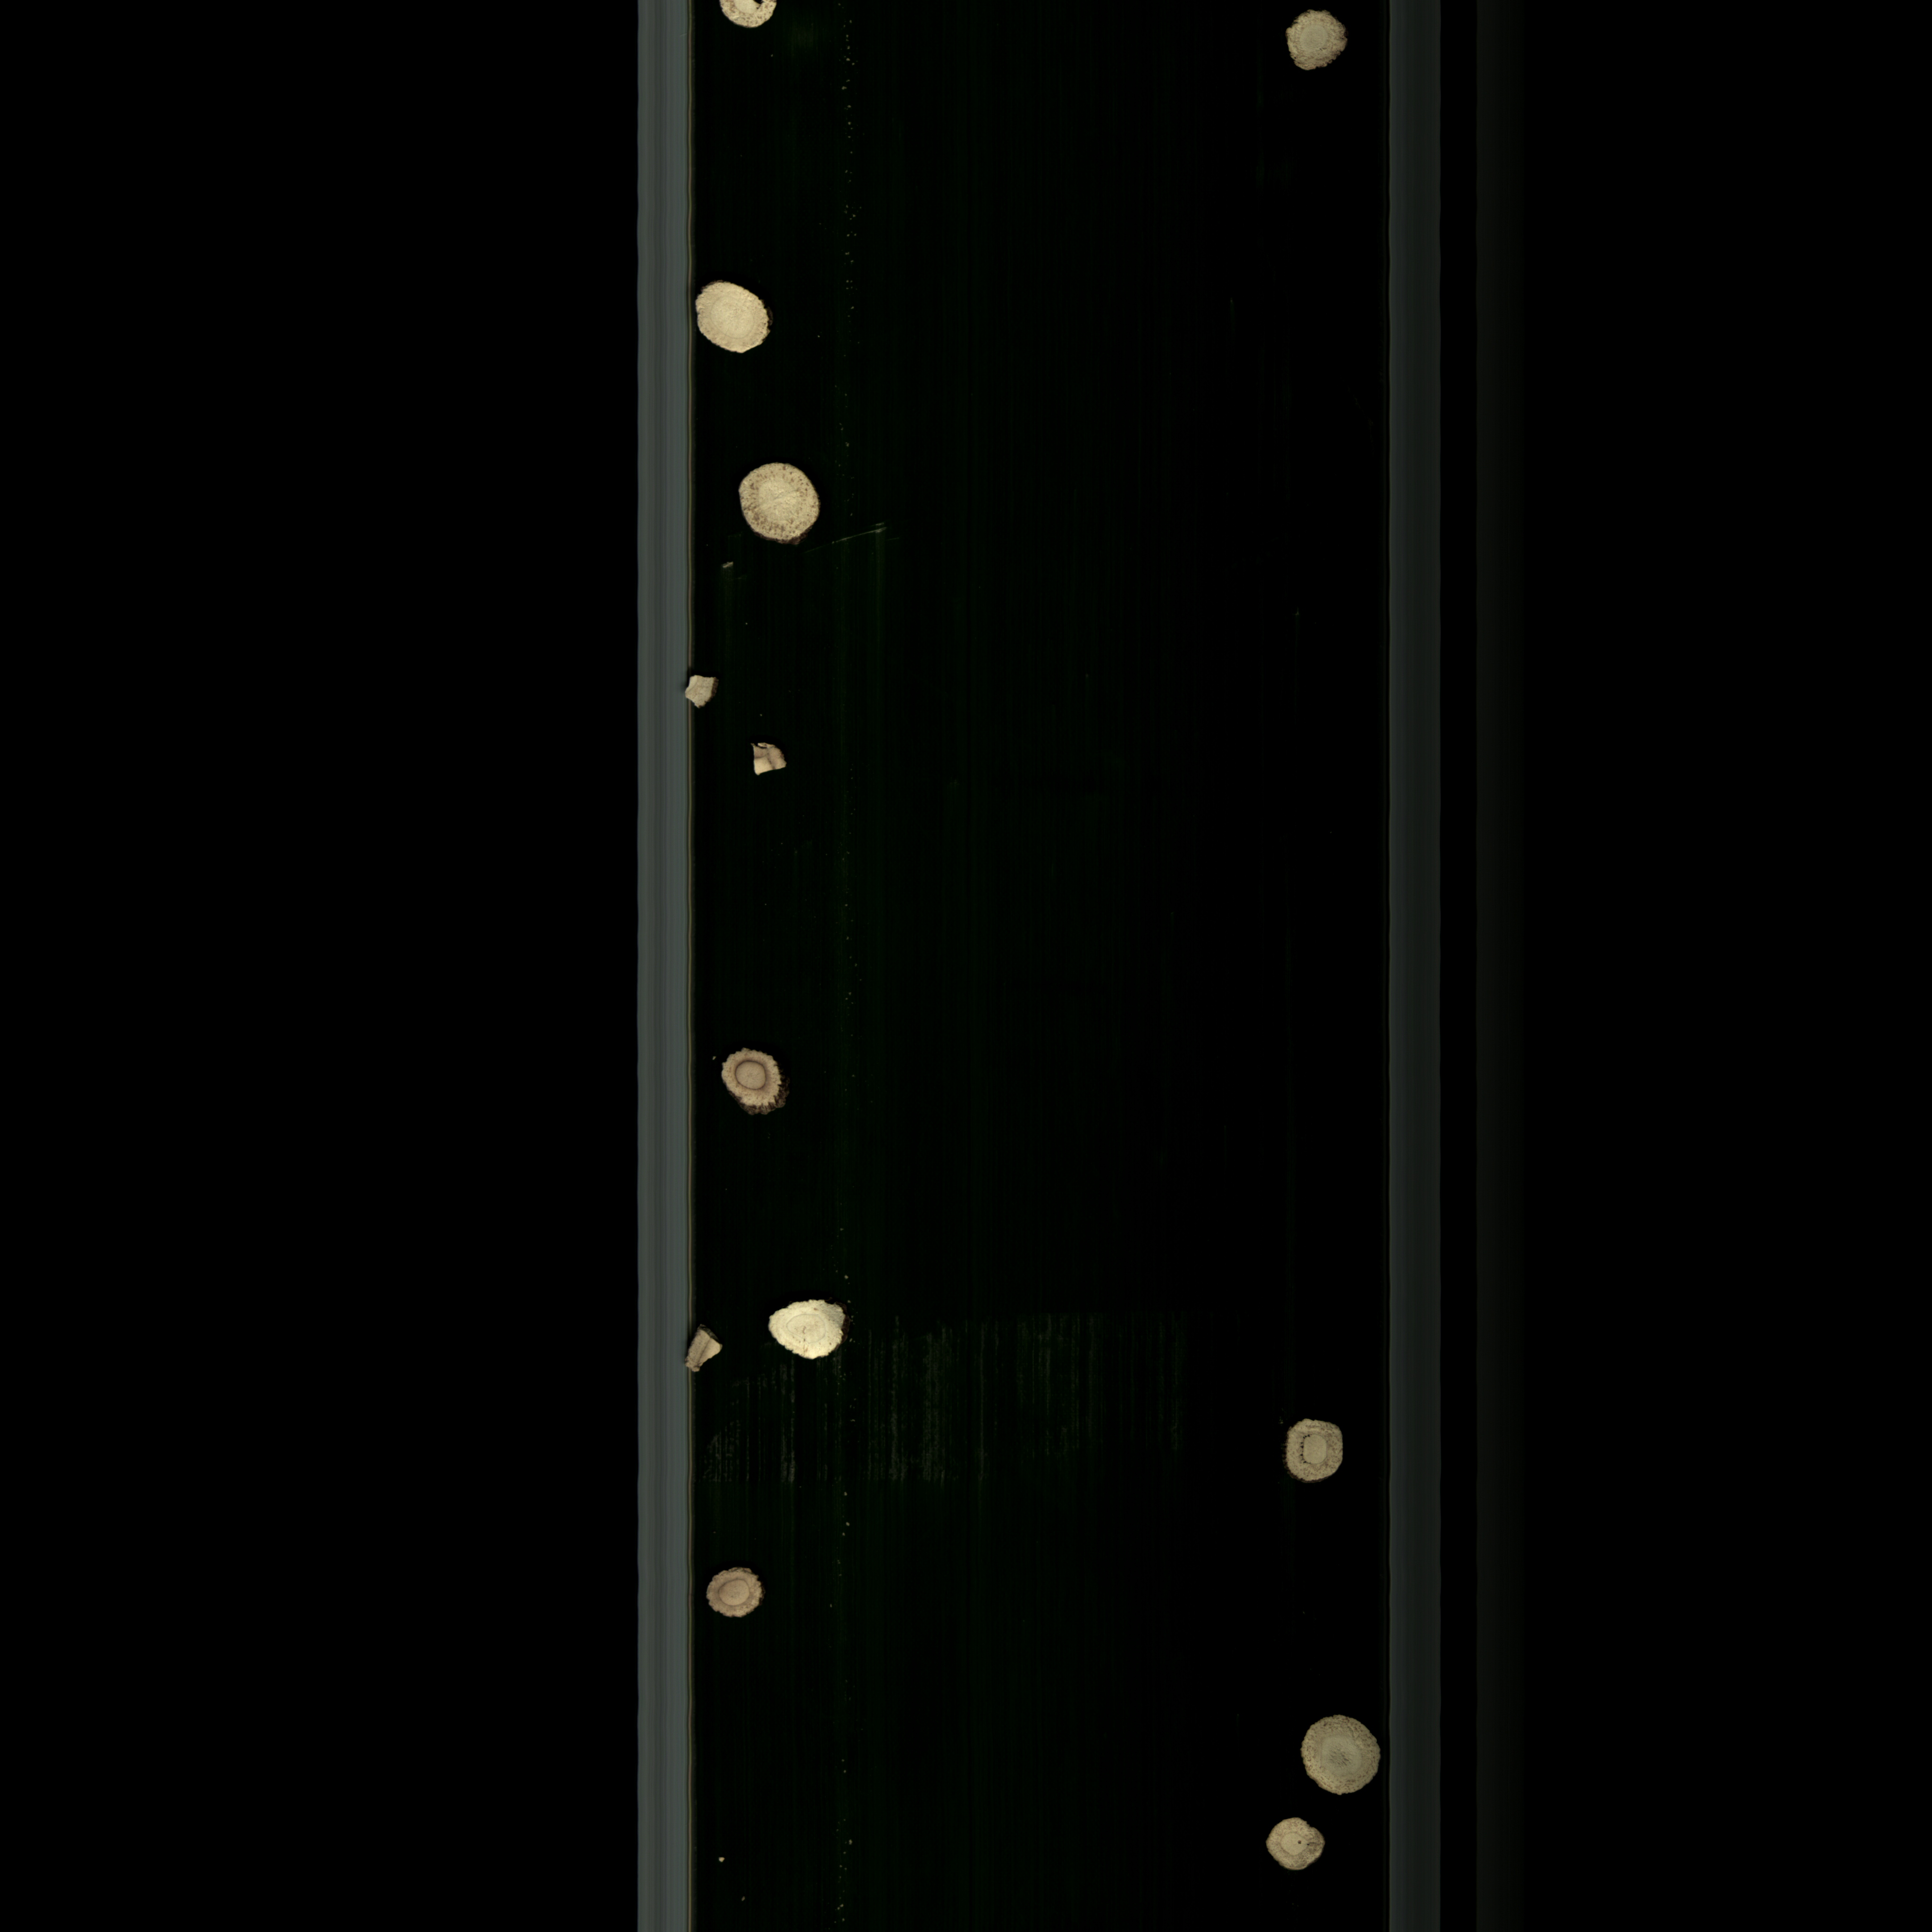distortion: (752, 1293, 862, 1371), (1267, 0, 1352, 90)
dreg: (745, 741, 800, 786), (683, 1323, 725, 1380), (678, 674, 724, 718)
hole: (1269, 1408, 1353, 1500), (1256, 1810, 1339, 1886), (697, 0, 810, 53)
moldy: (702, 1026, 809, 1134), (699, 1559, 786, 1622)
